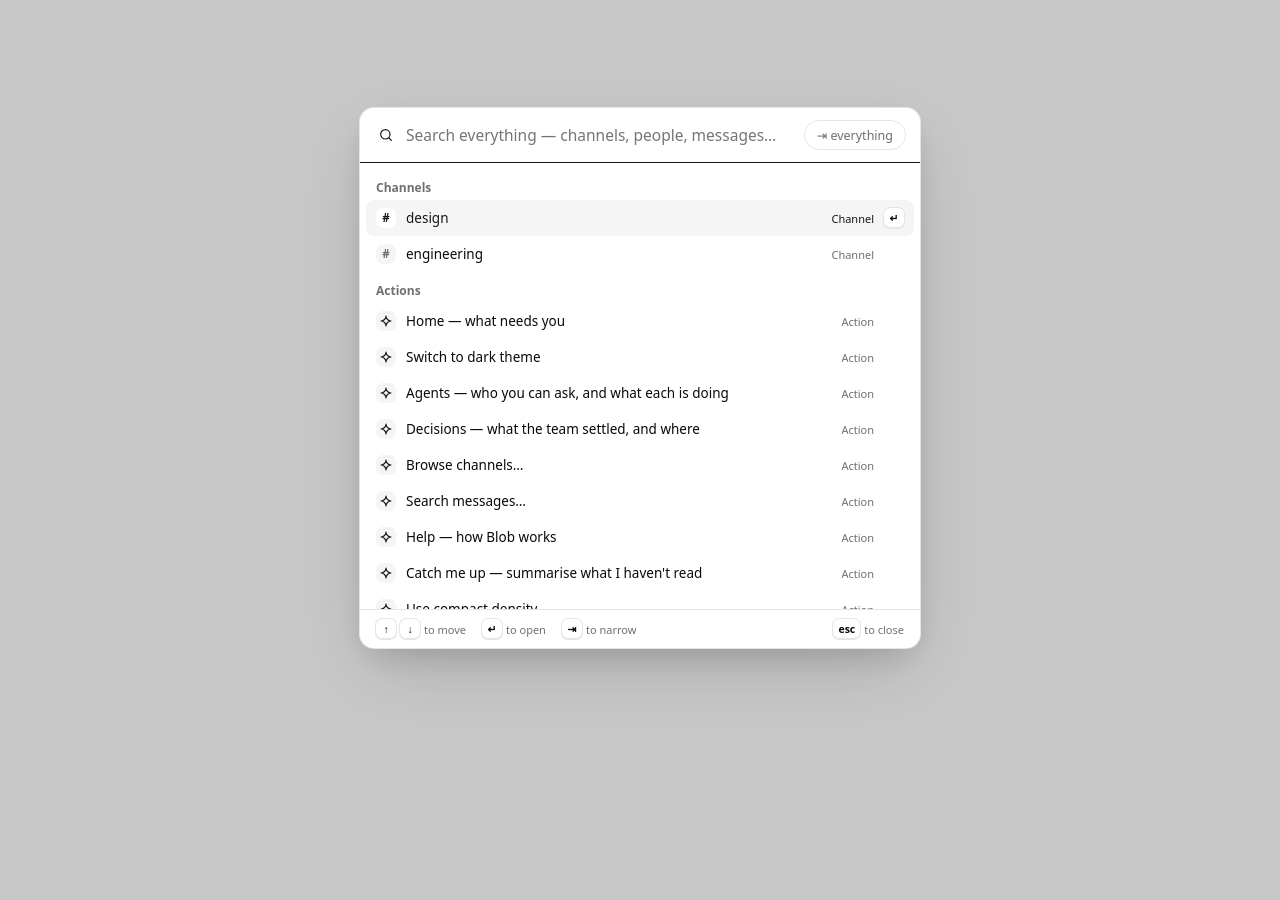
Test: the command palette › says it is not expanded when nothing matched
In the dropdown: (599, 135) [402, 108, 796, 162], type "zzzznothing"
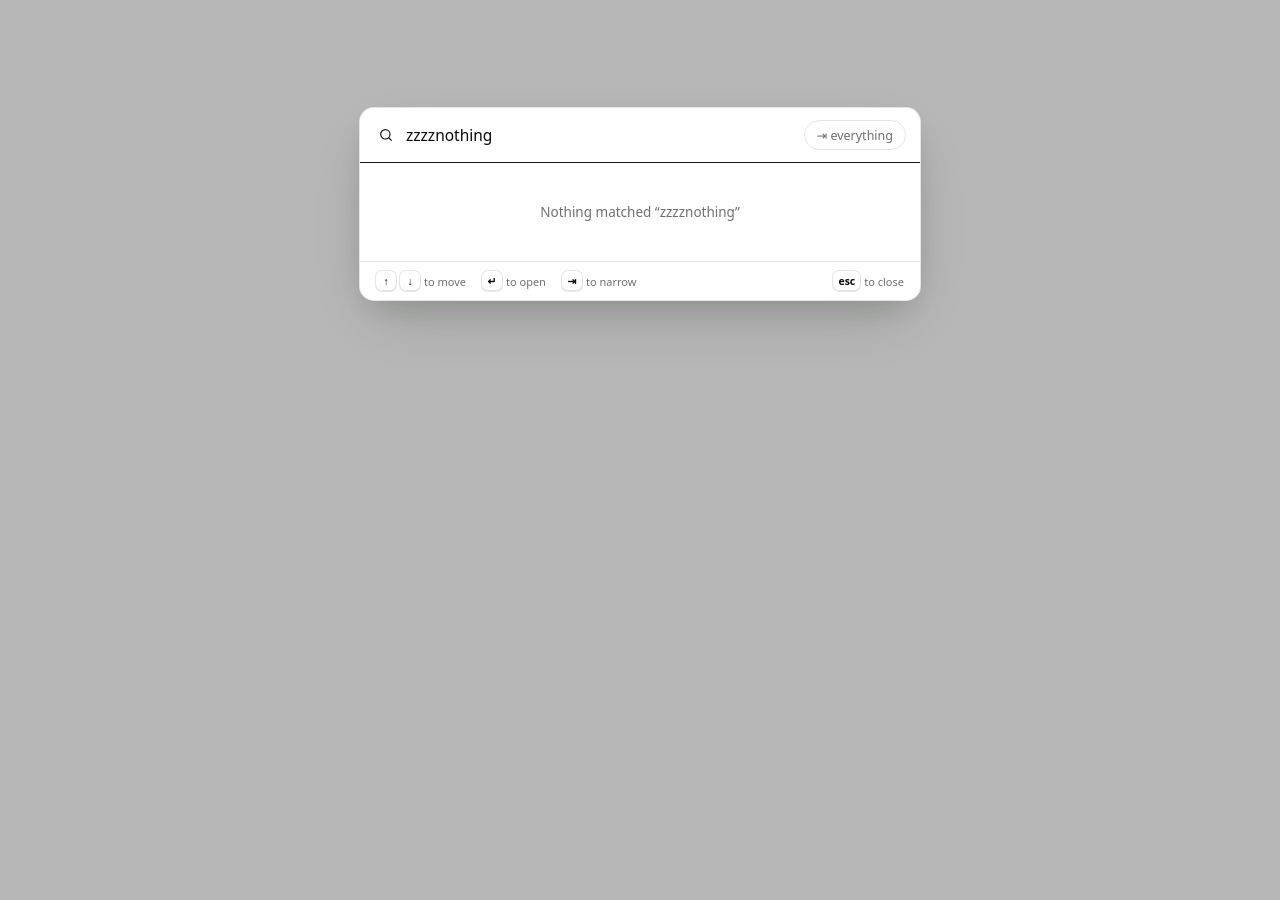
Expected: the dropdown is collapsed, [402, 108, 796, 162]
